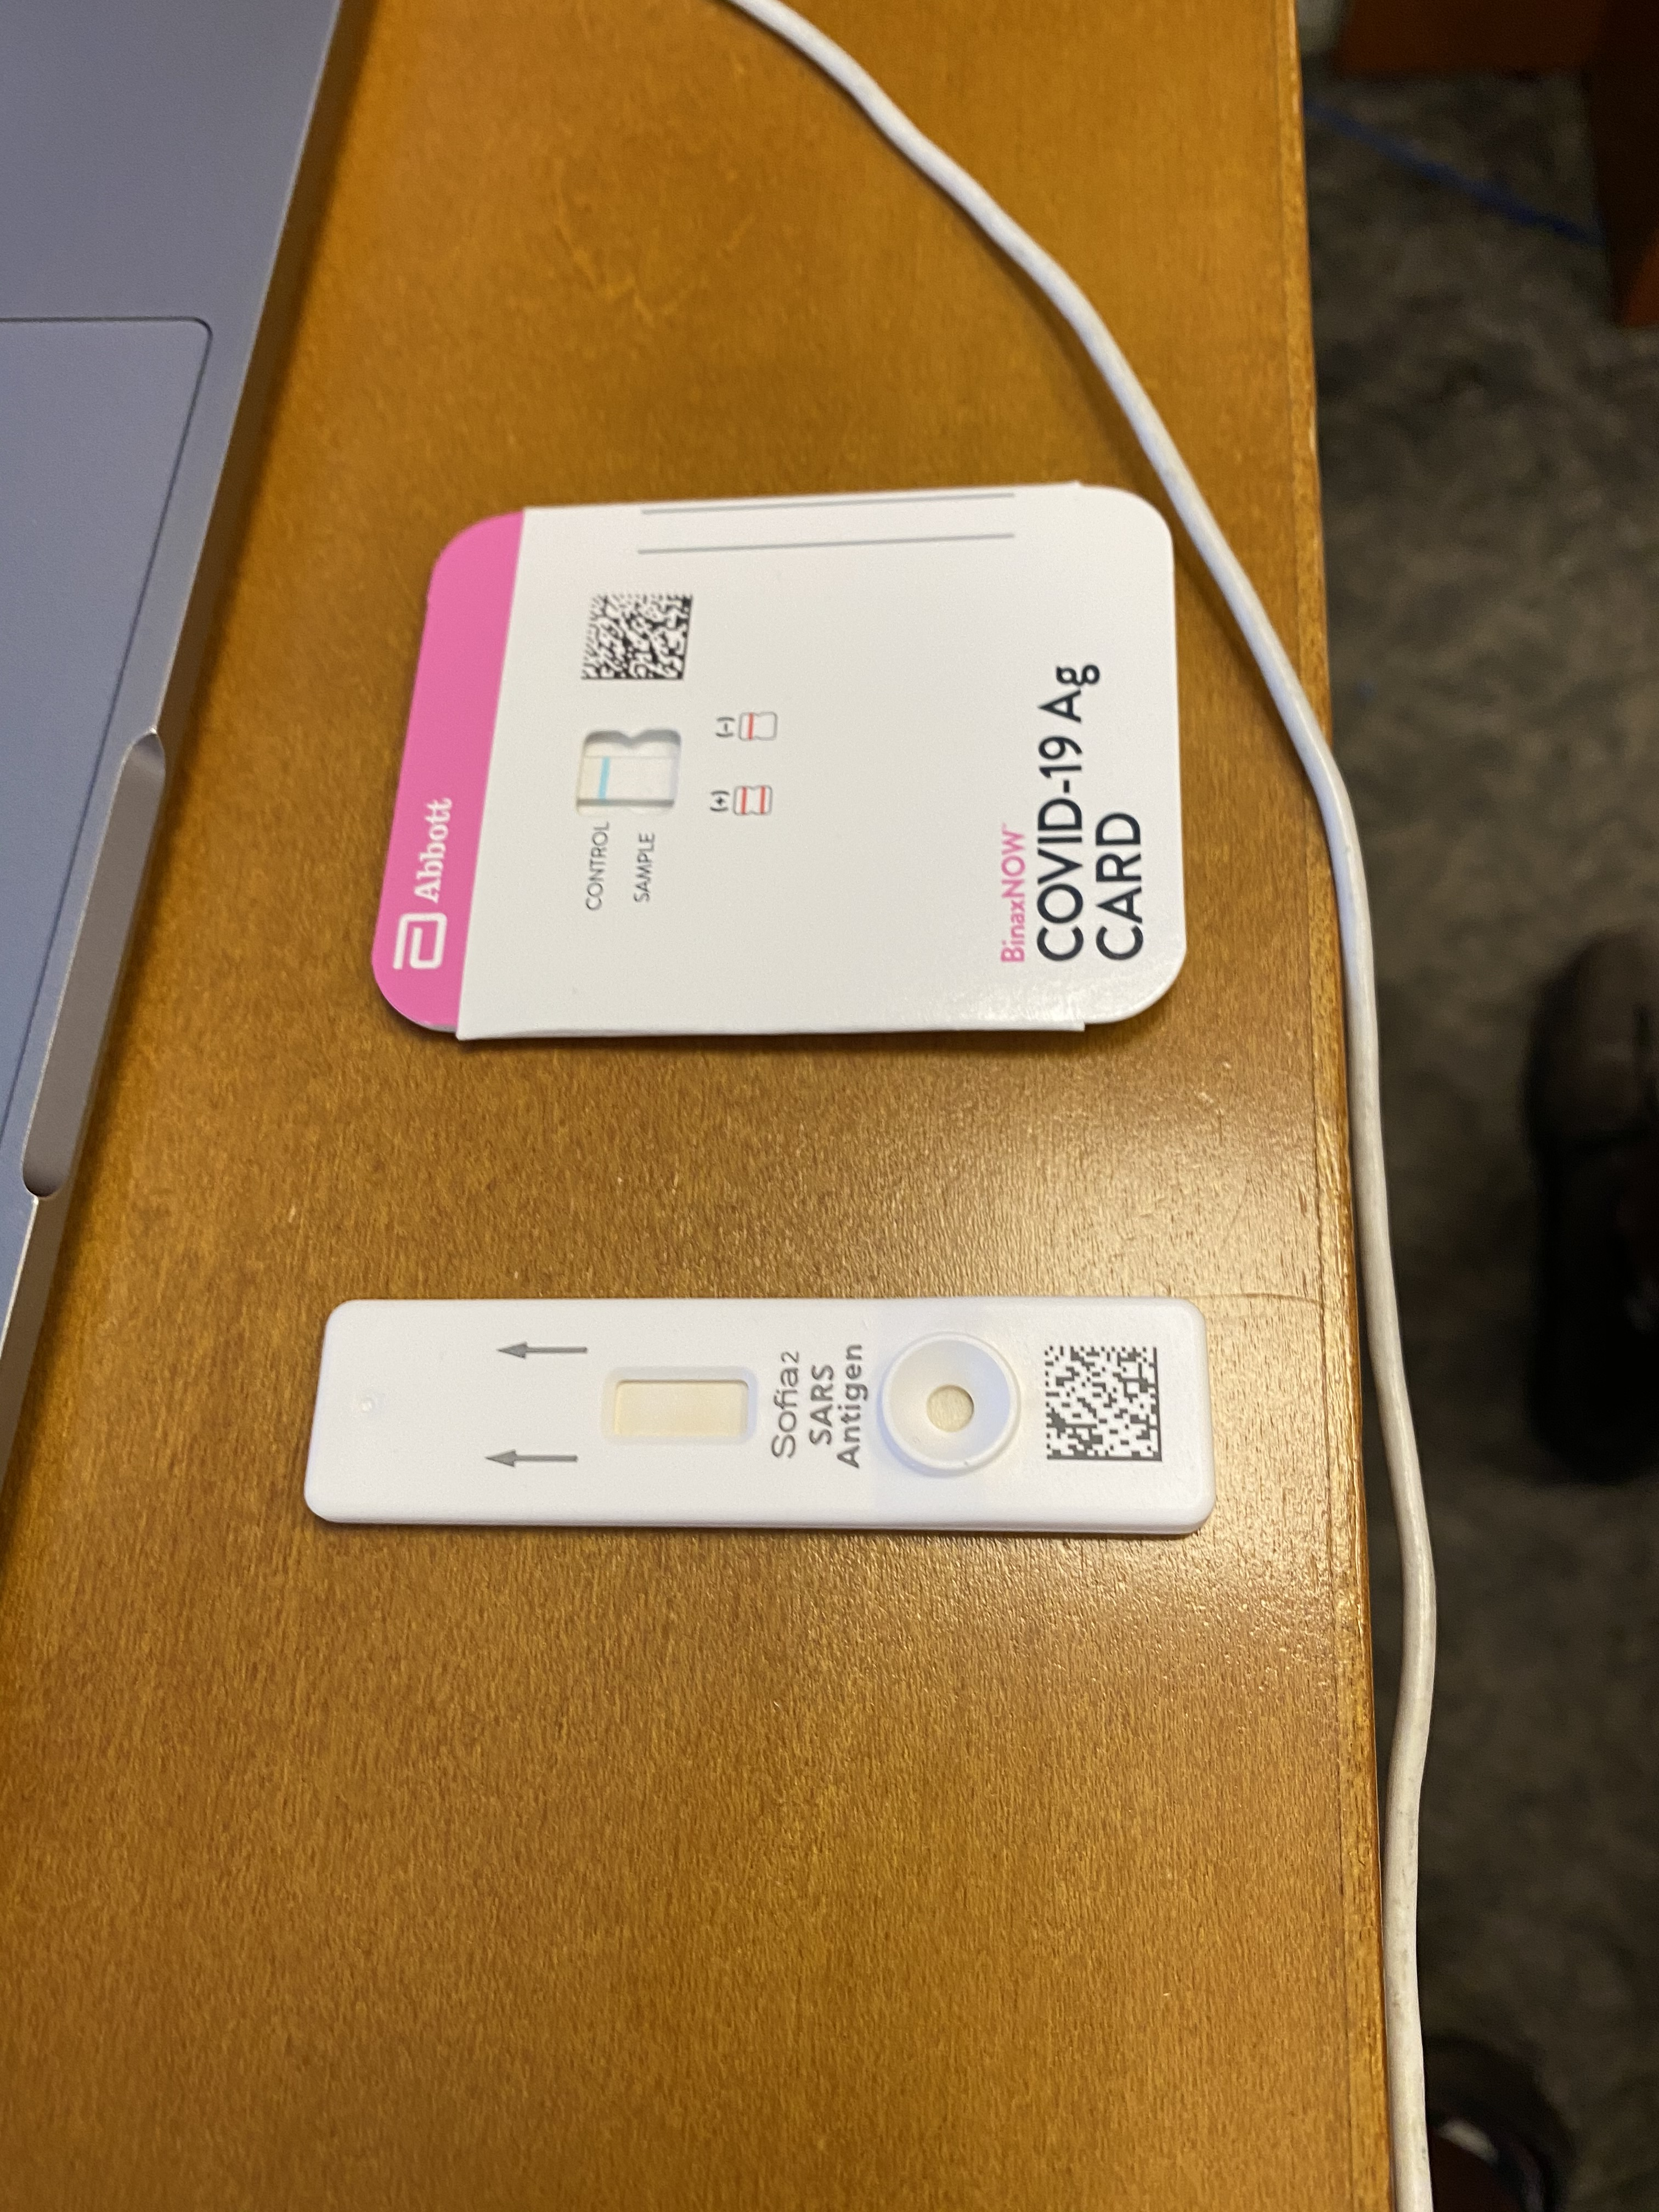binax: (366, 479, 1185, 1059)
quidel: (305, 1285, 1227, 1541)
